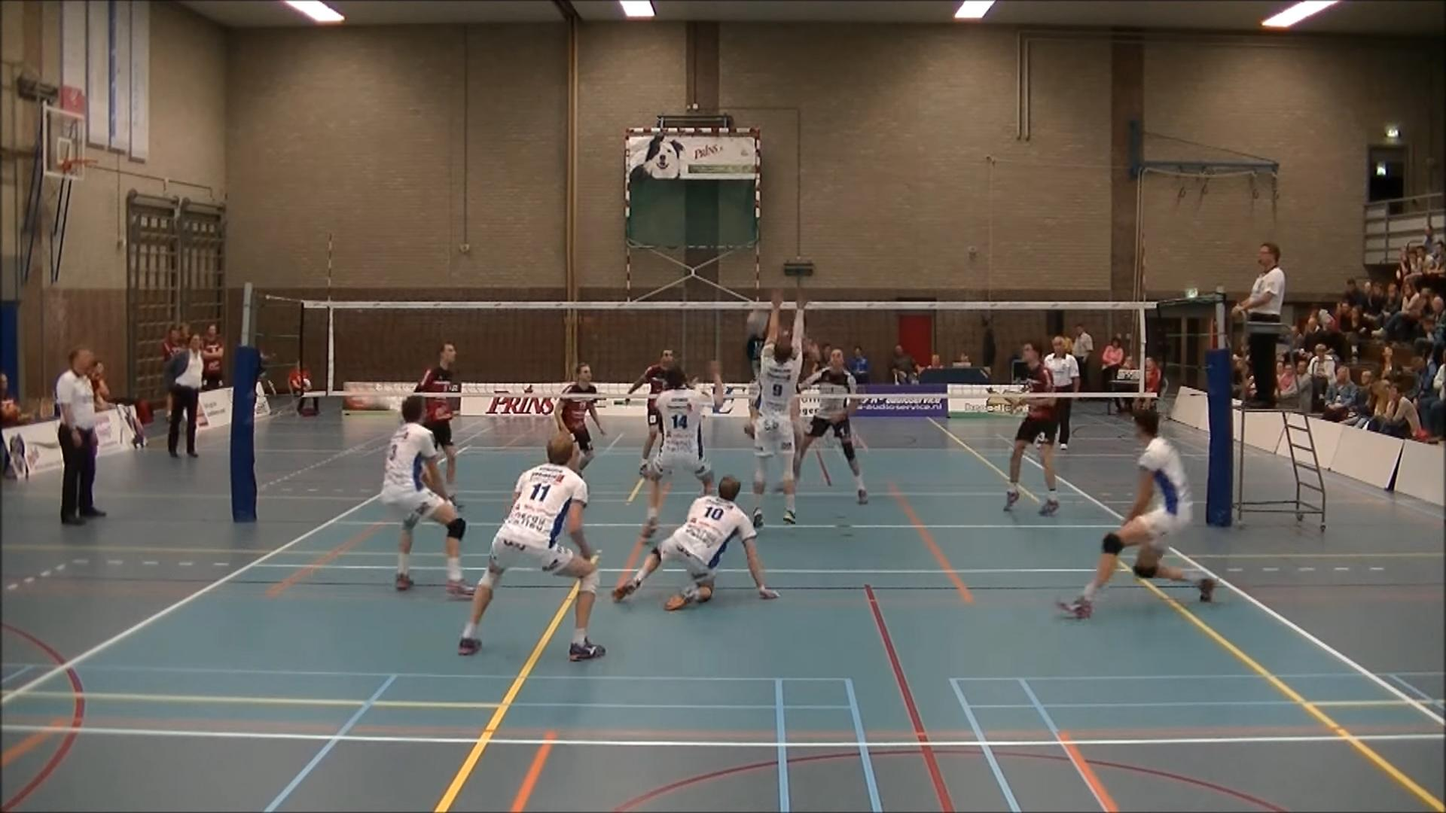muro: (755, 286, 809, 531)
